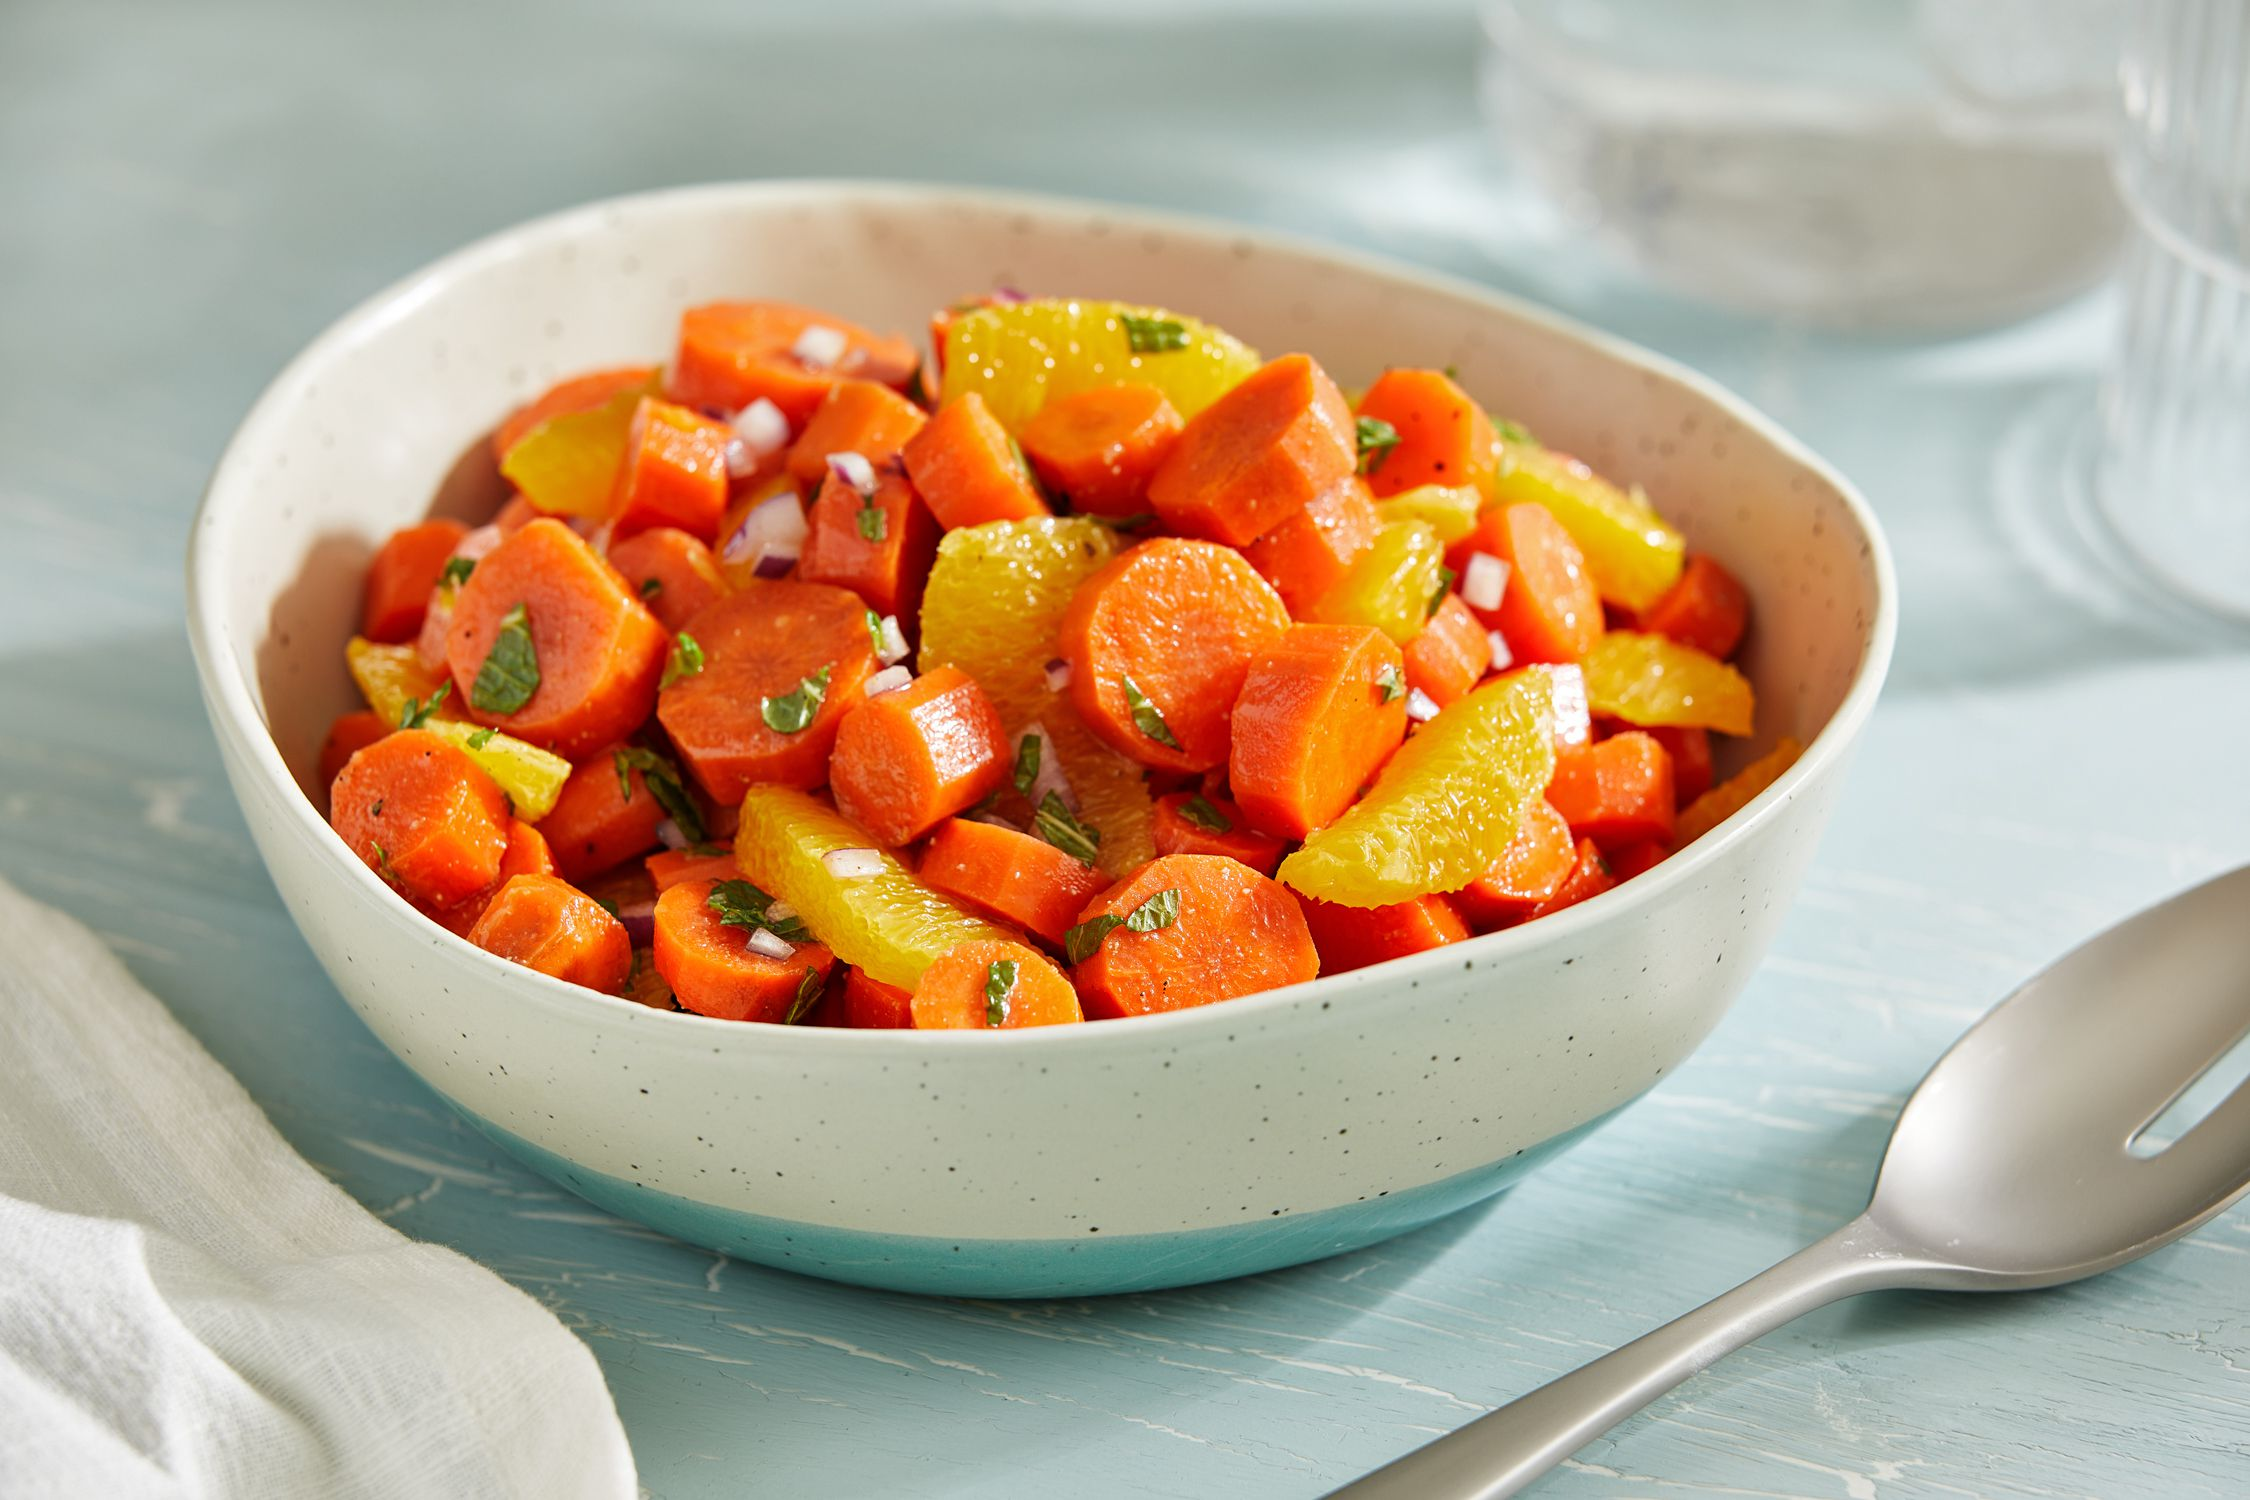carrot: (321, 293, 1801, 1028)
